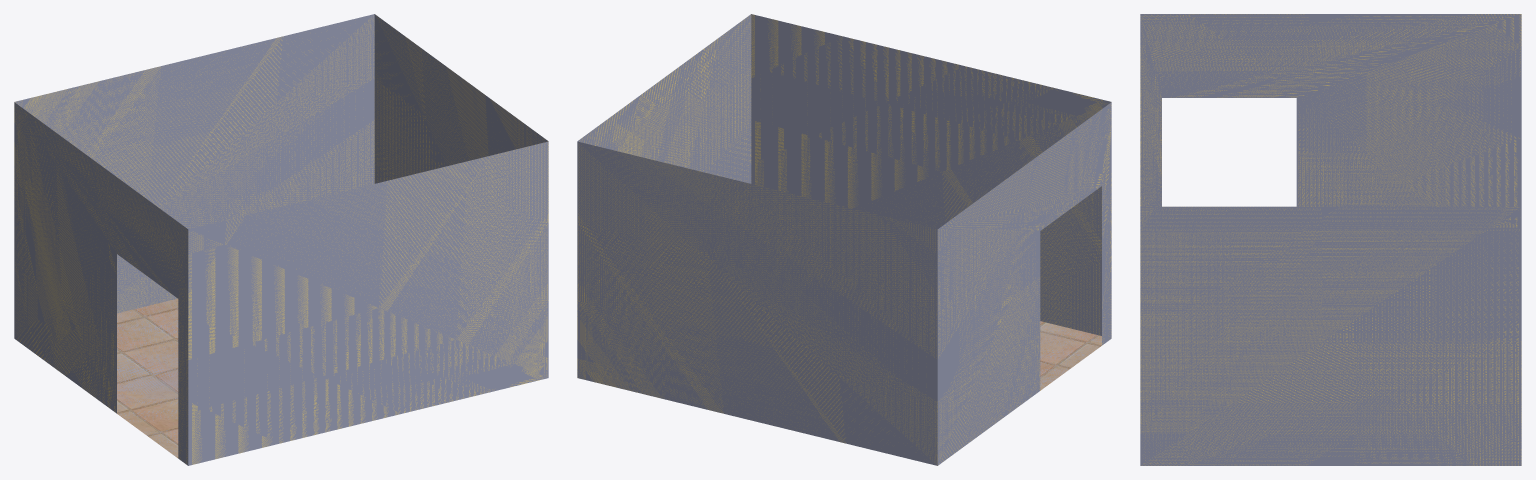
The model's file is LAB003.obj.
3 views of the same model, side by side, from view 1: azimuth 30°, elevation 25°; view 2: azimuth 150°, elevation 25°; view 3: azimuth 270°, elevation 25° (orthographic). The views are drawn at different scales.
Parts seen in each view (by area): view 1: Mesh1 LAB003 Model; view 2: Mesh1 LAB003 Model; view 3: Mesh1 LAB003 Model.
Boxes of the visible parts, x1=… form: Mesh1 LAB003 Model: x1=14, y1=14, x2=548, y2=465; Mesh1 LAB003 Model: x1=577, y1=14, x2=1111, y2=465; Mesh1 LAB003 Model: x1=1140, y1=14, x2=1521, y2=465.
Size of the model in its own units: 4.79 by 3 by 4.01.
Materials: 3 (1 with a texture image).
